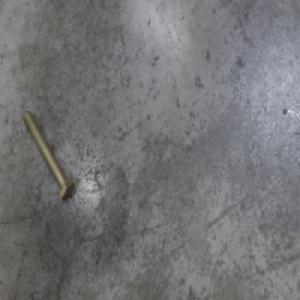Bolt: (22, 105, 74, 203)
